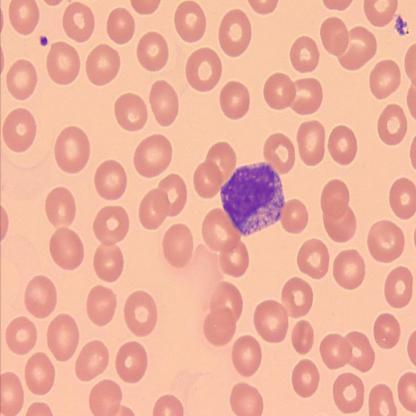Myelocyte: (220, 159, 285, 237)
